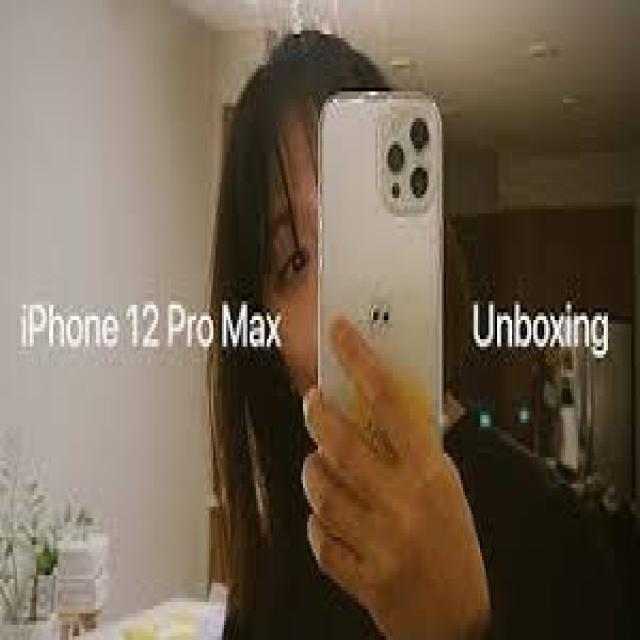Phone: (316, 91, 445, 493)
